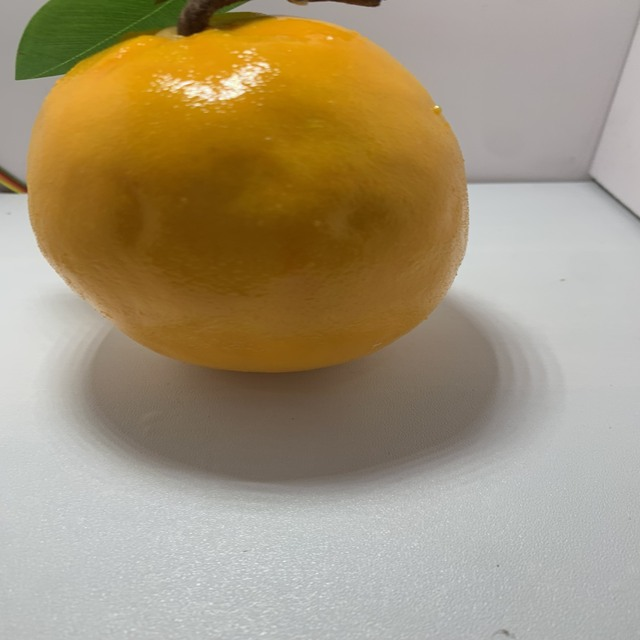Cam vang: (26, 0, 484, 383)
